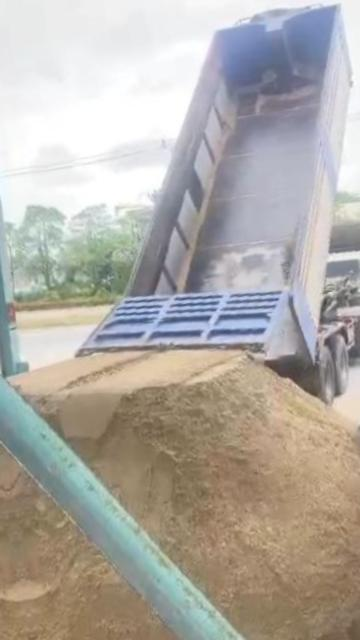sand: (17, 351, 360, 640), (3, 455, 214, 640), (359, 385, 360, 547)
